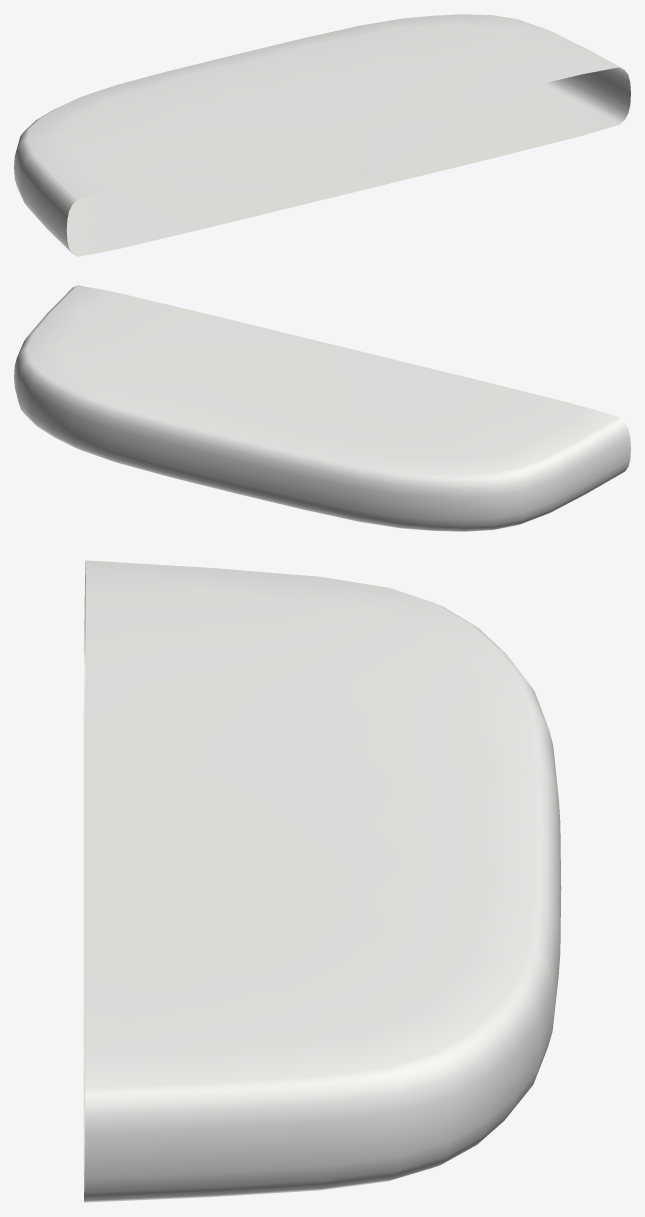
The model's file is Teeth.fbx.
3 renders of one model, top to bottom at view 1: azimuth 30°, elevation 25°; view 2: azimuth 150°, elevation 25°; view 3: azimuth 270°, elevation 25°, orthographic. The views are drawn at different scales.
Parts seen in each view (by area): view 1: teeth; view 2: teeth; view 3: teeth.
Boxes of the visible parts, x1,y1,x2,y2 form: teeth: (14,14,630,256); teeth: (14,285,630,531); teeth: (83,560,561,1202).
Size of the model in its own units: 0.9258 by 0.1017 by 0.3392.
